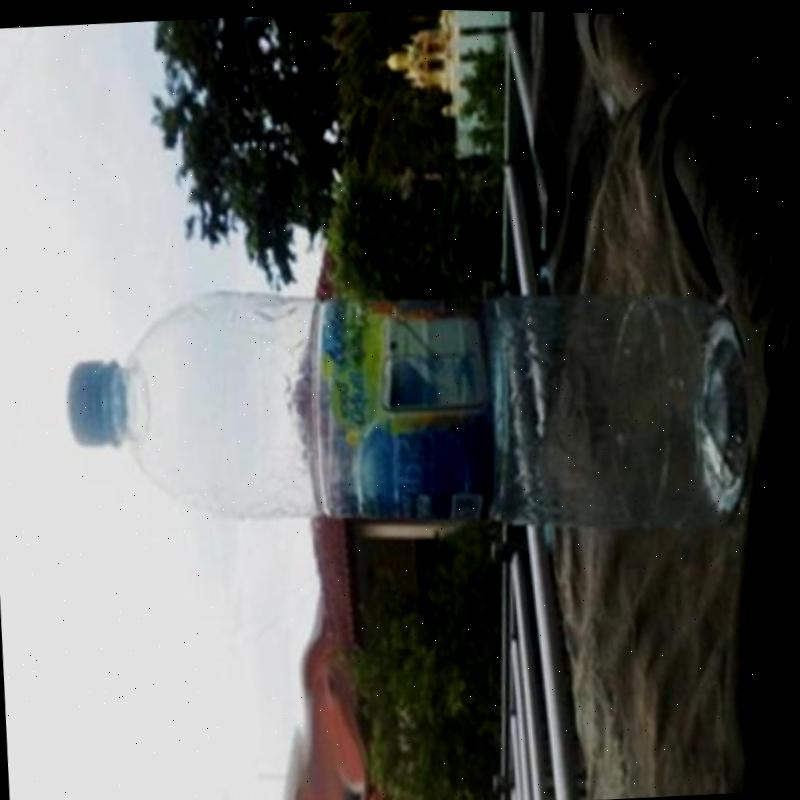botella: (60, 250, 760, 557)
